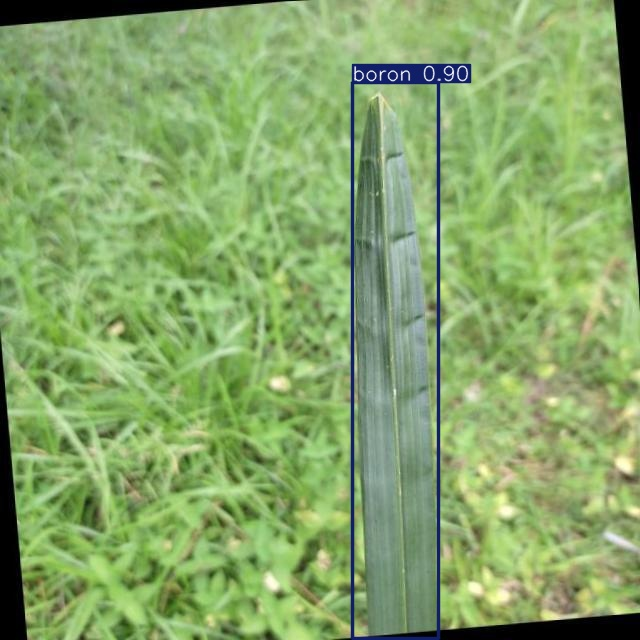nitrogen: (352, 82, 438, 639)
